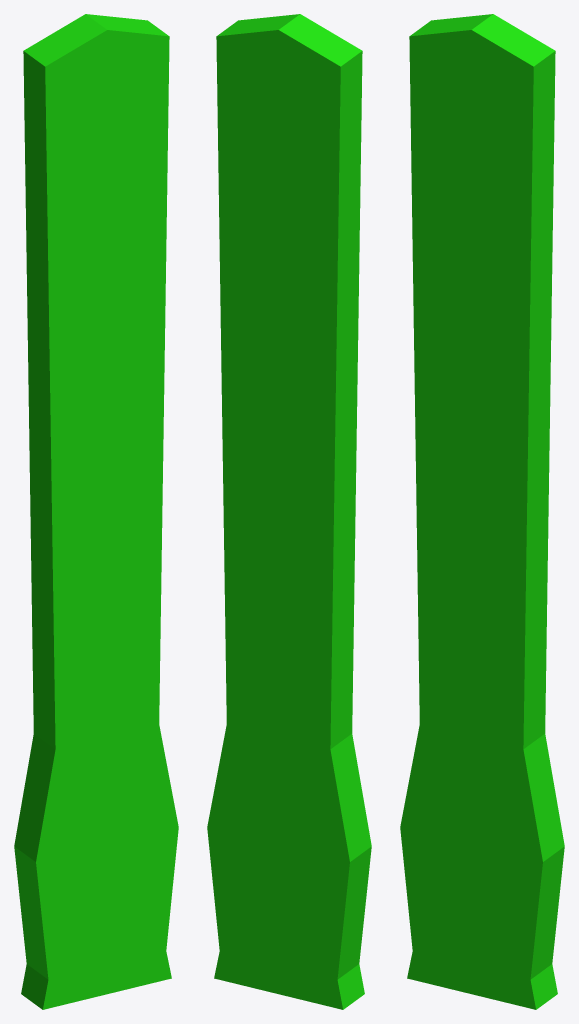
File: statue02.fbx
3 views of the same model, side by side, from view 1: azimuth 30°, elevation 25°; view 2: azimuth 150°, elevation 25°; view 3: azimuth 330°, elevation 25° (orthographic).
Visible parts, largest first — view 1: Cube.016; view 2: Cube.016; view 3: Cube.016.
Part boxes in pixels (bbox=[...]): Cube.016: bbox=[14, 14, 178, 1009]; Cube.016: bbox=[207, 14, 371, 1009]; Cube.016: bbox=[400, 14, 564, 1009].
Bounding box in the file's own units: 142 × 919 × 37.61.
